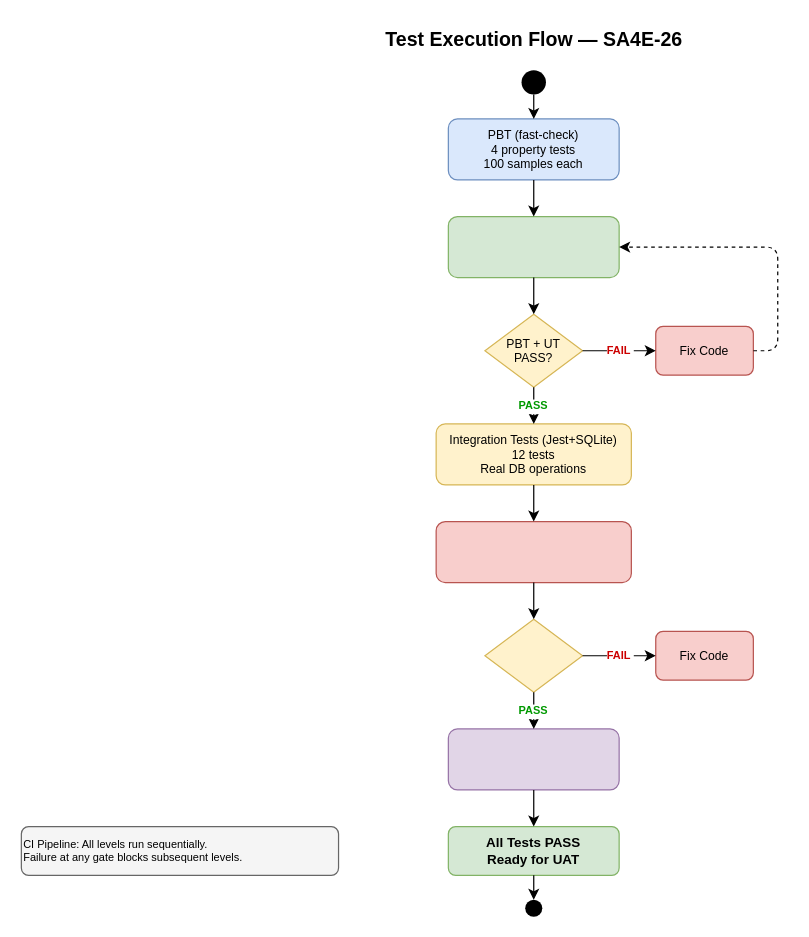
The diagram is 809 pixels wide and 937 high, and some of its shapes have lost their labels. The shapes that lost their labels are listed below. From the top down, each one's box as (x1, y1, x2, y2) in pixels, then its label:
(447, 215, 619, 278): Unit Tests (Jest) 14 tests buildScopeClause, insert, derive
(435, 520, 631, 583): E2E-API Tests (MCP Client) 8 tests Full tool call path
(484, 618, 583, 692): IT + E2E PASS?
(447, 728, 619, 790): SIT (Multi-Process) 4 tests Performance + Isolation
